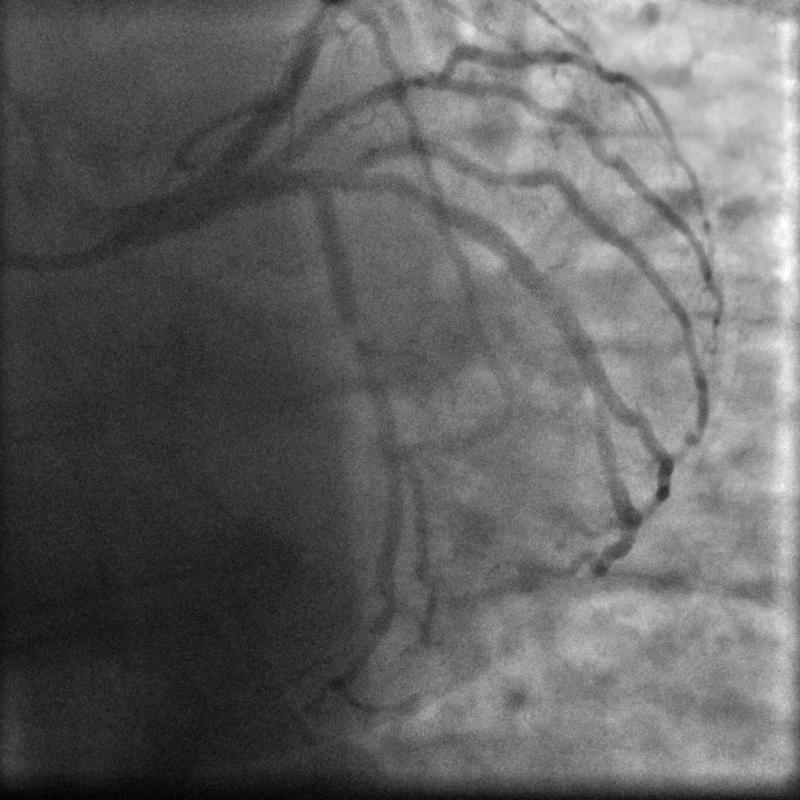Stenosis: (343, 325, 394, 418)
